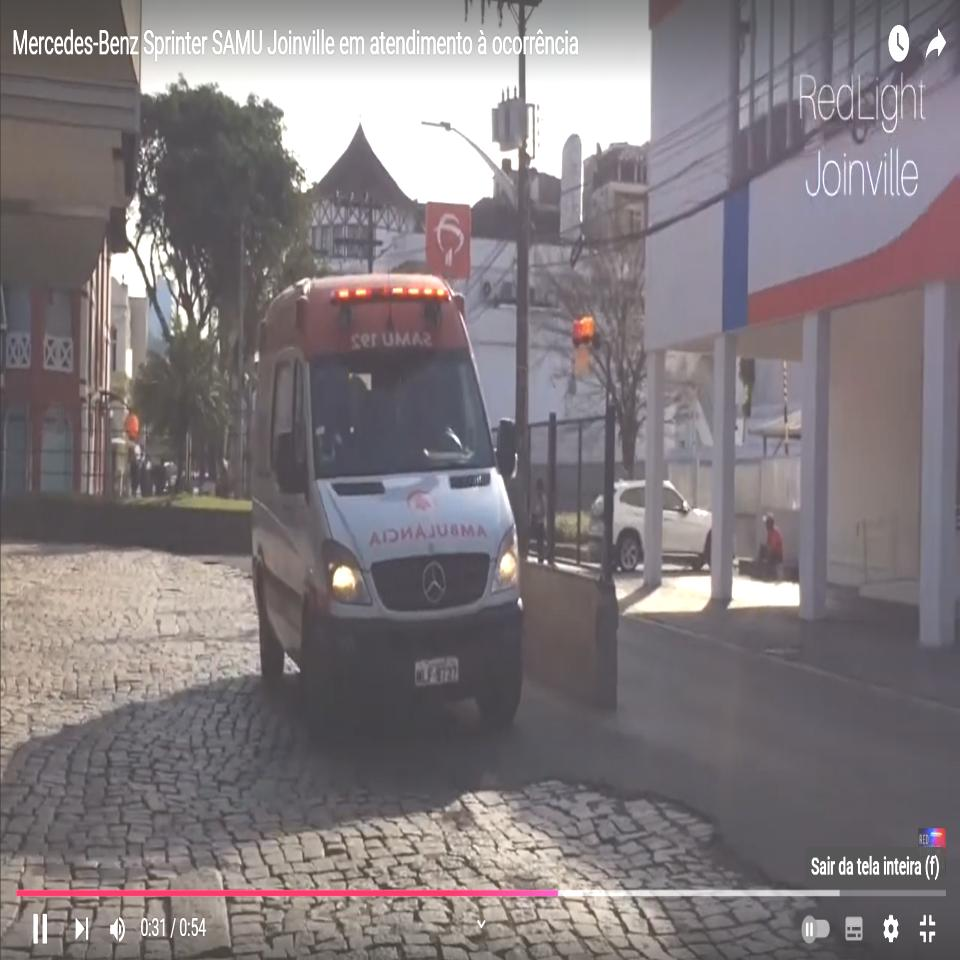ambulancia: (247, 268, 527, 752)
